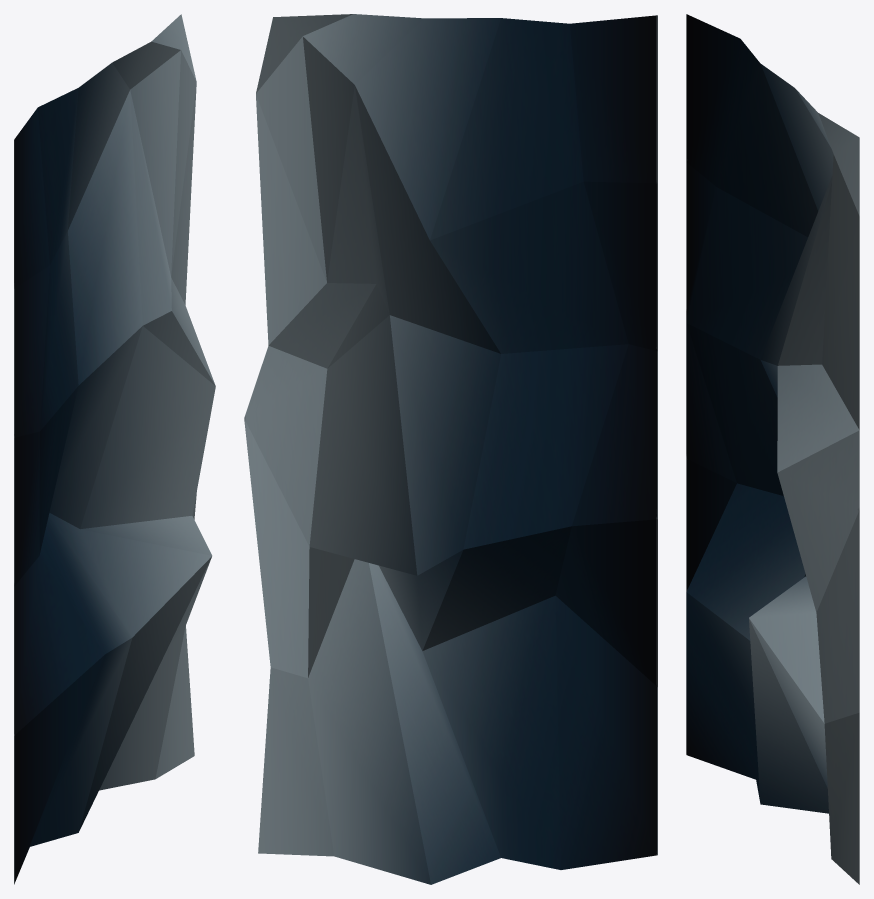
The model's file is M_Wall_01.FBX.
The picture shows the model from 3 angles, left to right: view 1: azimuth 30°, elevation 25°; view 2: azimuth 150°, elevation 25°; view 3: azimuth 270°, elevation 25°; orthographic projection. The views are drawn at different scales.
Visible parts, largest first — view 1: M_Wall_01; view 2: M_Wall_01; view 3: M_Wall_01.
Part boxes in pixels (bbox=[...]): M_Wall_01: bbox=[14, 14, 215, 884]; M_Wall_01: bbox=[244, 14, 657, 884]; M_Wall_01: bbox=[686, 14, 859, 884].
Size of what is drawn, in the model's own units: 55.05 by 140 by 29.63.
